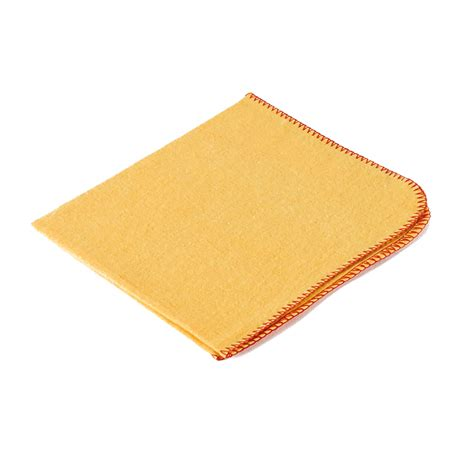gamuza: (32, 92, 430, 359)
